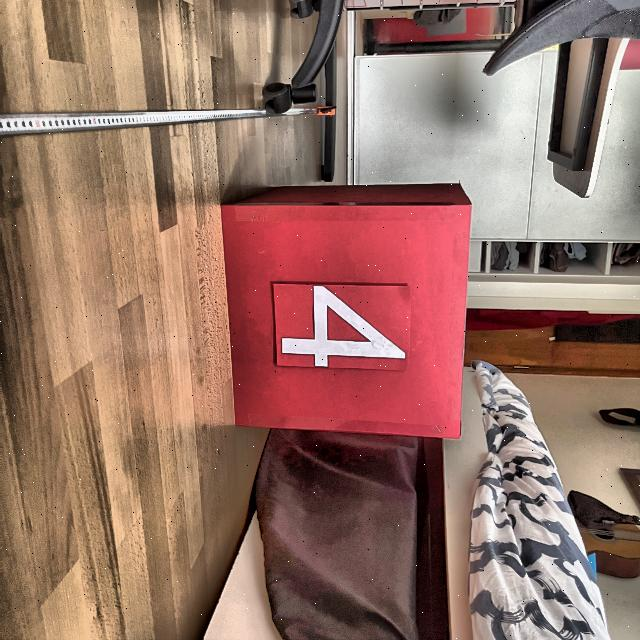four: (278, 282, 410, 370)
red box: (220, 182, 470, 442)
